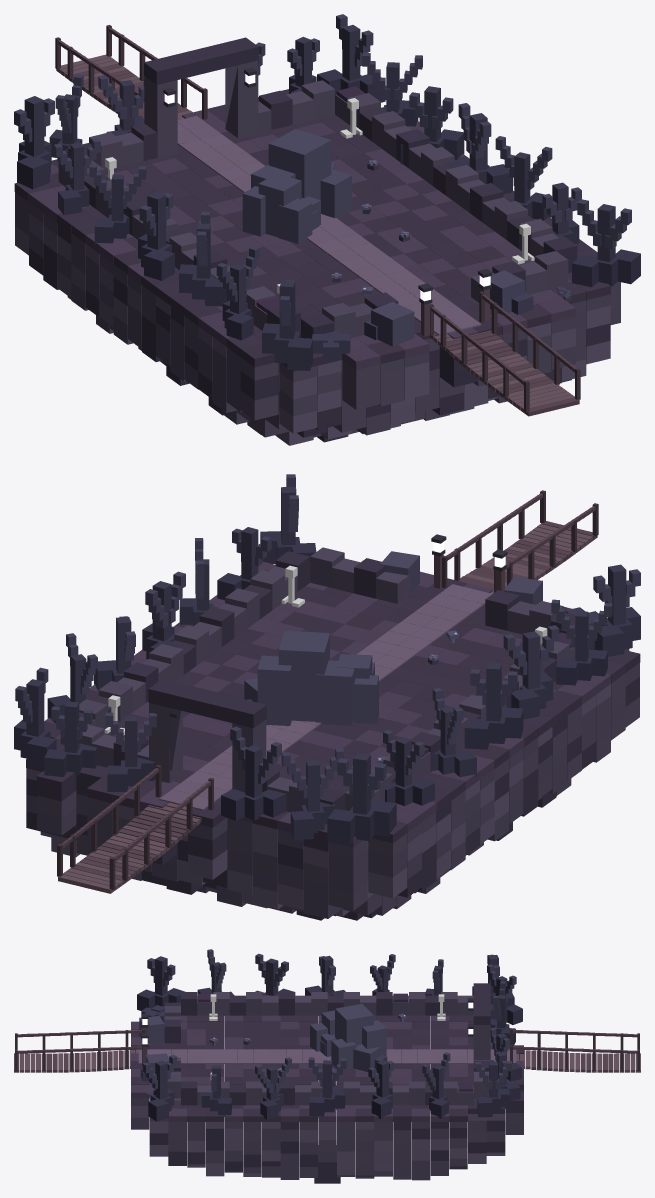
File: room_rock_polluted.glb
3 renders of one model, top to bottom at view 1: azimuth 30°, elevation 25°; view 2: azimuth 150°, elevation 25°; view 3: azimuth 270°, elevation 25°, orthographic. The views are drawn at different scales.
Visible parts, largest first — view 1: room_rock_blocks, rock_outcrop_(0, 0).001, rock_outcrop_(0, 0).002, tree1_(0, 0).001, tree0_(0, 0).003, tree0_(0, 0).001, tree0_(0, 0).002, tree1_(0, 0).003, tree2_(0, 0).001, tree1_(0, 0).002, tree4_(0, 0).001, tree2_(0, 0).002 (+11 smaller); view 2: room_rock_blocks, rock_outcrop_(0, 0).001, tree0_(0, 0).003, tree5_(0, 0).003, tree0_(0, 0).002, tree4_(0, 0).001, tree0_(0, 0).001, tree2_(0, 0).001, tree2_(0, 0).003, tree1_(0, 0).003, tree0_(0, 0).004, tree1_(0, 0).004 (+11 smaller); view 3: room_rock_blocks, rock_outcrop_(0, 0).001, tree1_(0, 0).002, tree1_(0, 0).001, tree0_(0, 0).001, tree1_(0, 0).003, tree5_(0, 0).001, tree3_(0, 0).002, tree5_(0, 0).002, tree4_(0, 0).001, tree2_(0, 0).003, tree3_(0, 0).001 (+11 smaller).
Boxes of the visible parts, box(x1,y1,x2,y2) form: room_rock_blocks: box(14, 25, 620, 445); rock_outcrop_(0, 0).001: box(251, 128, 351, 225); rock_outcrop_(0, 0).002: box(242, 173, 318, 243); tree1_(0, 0).001: box(572, 199, 640, 287); tree0_(0, 0).003: box(14, 96, 54, 189); tree0_(0, 0).001: box(262, 280, 312, 370); tree0_(0, 0).002: box(138, 191, 174, 280); tree1_(0, 0).003: box(317, 14, 385, 102); tree2_(0, 0).001: box(216, 246, 259, 340); tree1_(0, 0).002: box(446, 103, 512, 193); tree4_(0, 0).001: box(179, 211, 226, 306); tree2_(0, 0).002: box(89, 164, 146, 245); room_rock_blocks: box(26, 490, 640, 920); rock_outcrop_(0, 0).001: box(257, 630, 354, 725); tree0_(0, 0).003: box(327, 753, 396, 845); tree5_(0, 0).003: box(221, 726, 286, 820); tree0_(0, 0).002: box(464, 663, 523, 749); tree4_(0, 0).001: box(503, 625, 559, 719); tree0_(0, 0).001: box(593, 564, 640, 656); tree2_(0, 0).001: box(551, 599, 612, 685); tree2_(0, 0).003: box(281, 748, 343, 840); tree1_(0, 0).003: box(14, 667, 56, 768); tree0_(0, 0).004: box(44, 701, 96, 776); tree1_(0, 0).004: box(105, 712, 156, 791); room_rock_blocks: box(14, 983, 640, 1183); rock_outcrop_(0, 0).001: box(321, 1004, 386, 1069); tree1_(0, 0).002: box(308, 1057, 346, 1117); tree1_(0, 0).001: box(142, 1055, 177, 1121); tree0_(0, 0).001: box(137, 956, 185, 1010); tree1_(0, 0).003: box(475, 1061, 511, 1117); tree5_(0, 0).001: box(255, 1057, 291, 1119); tree3_(0, 0).002: box(368, 1060, 393, 1118); tree5_(0, 0).002: box(422, 1052, 450, 1118); tree4_(0, 0).001: box(255, 953, 295, 995); tree2_(0, 0).003: box(487, 964, 522, 1024); tree3_(0, 0).001: box(201, 1065, 231, 1116).
Size of the model in its own units: 17.99 by 12.1 by 38.5.
